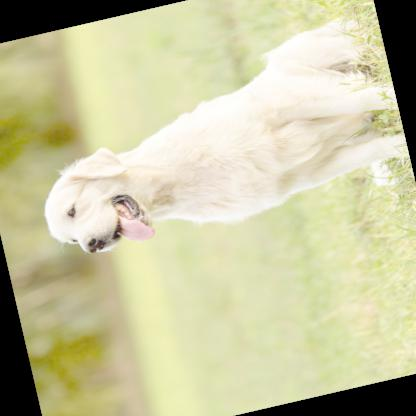DOG: (13, 6, 415, 266)
